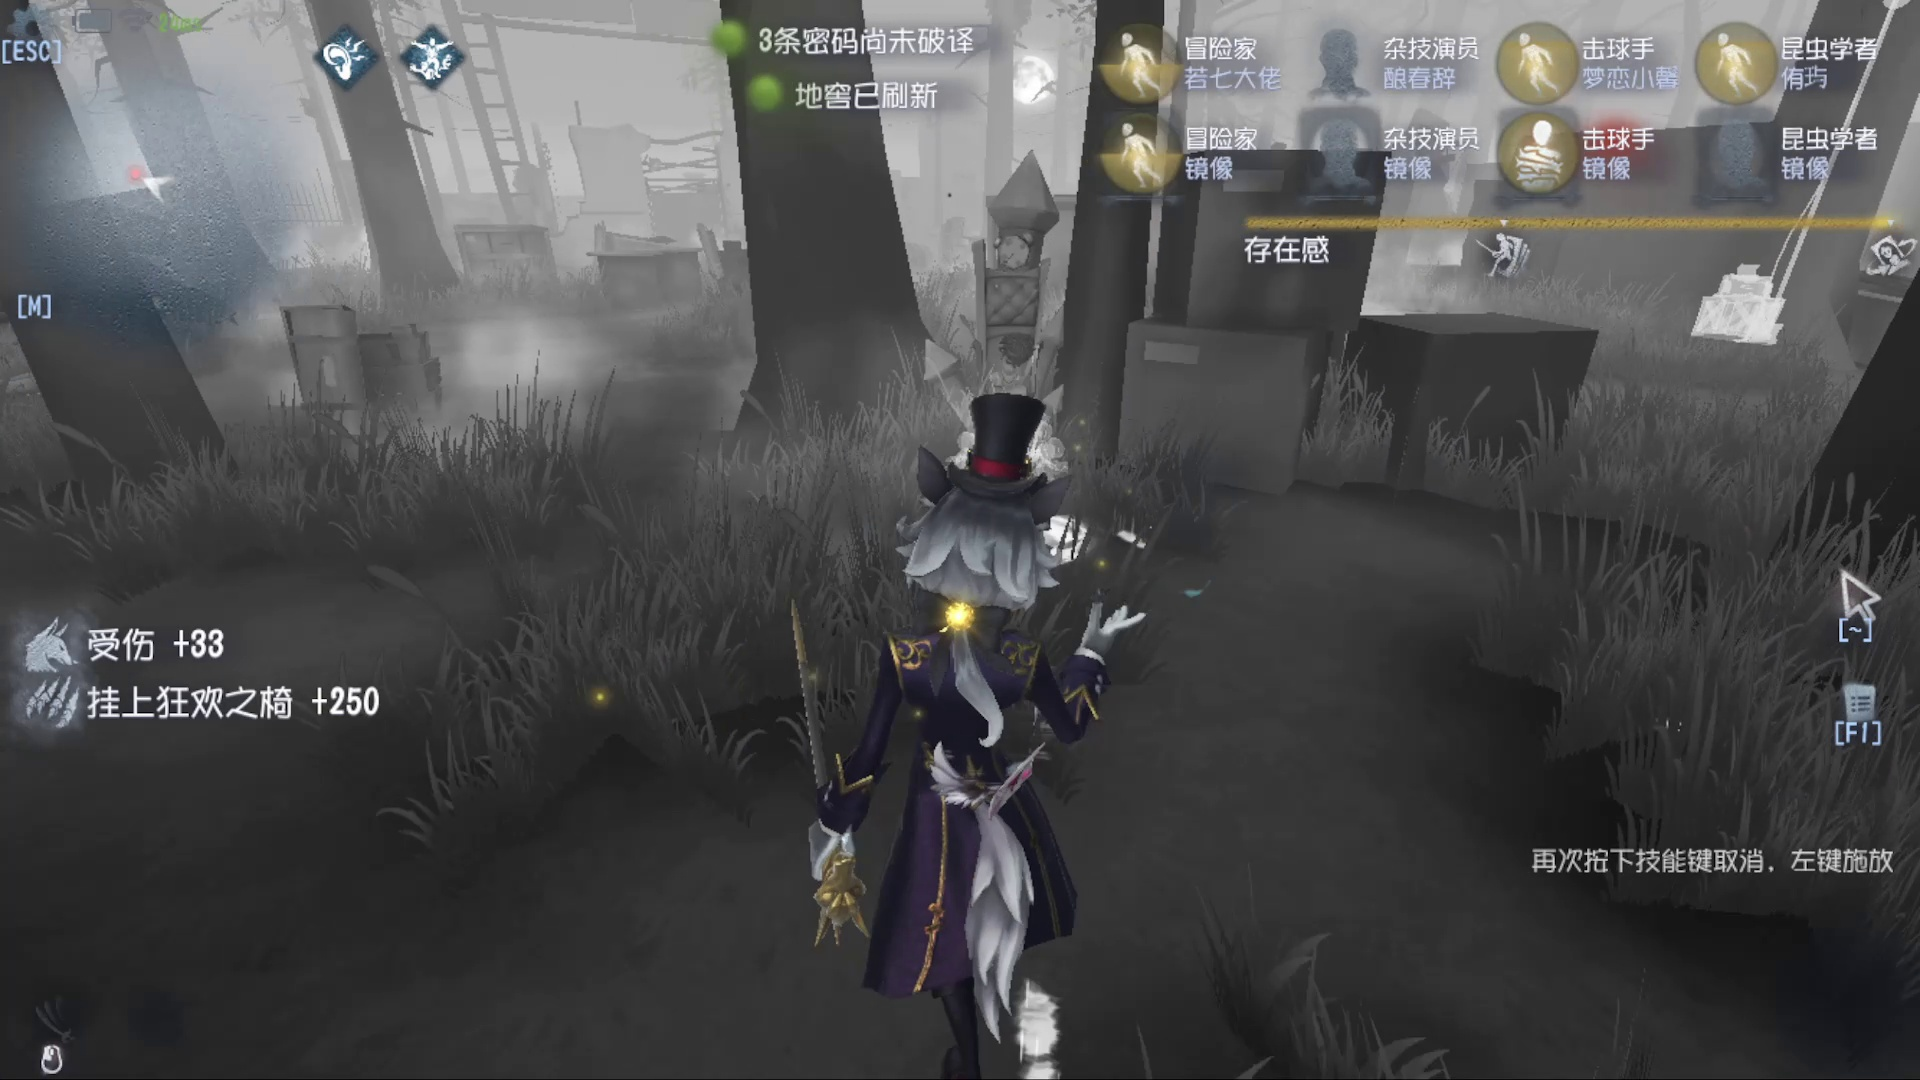狂欢之椅: (947, 144, 1077, 438)
